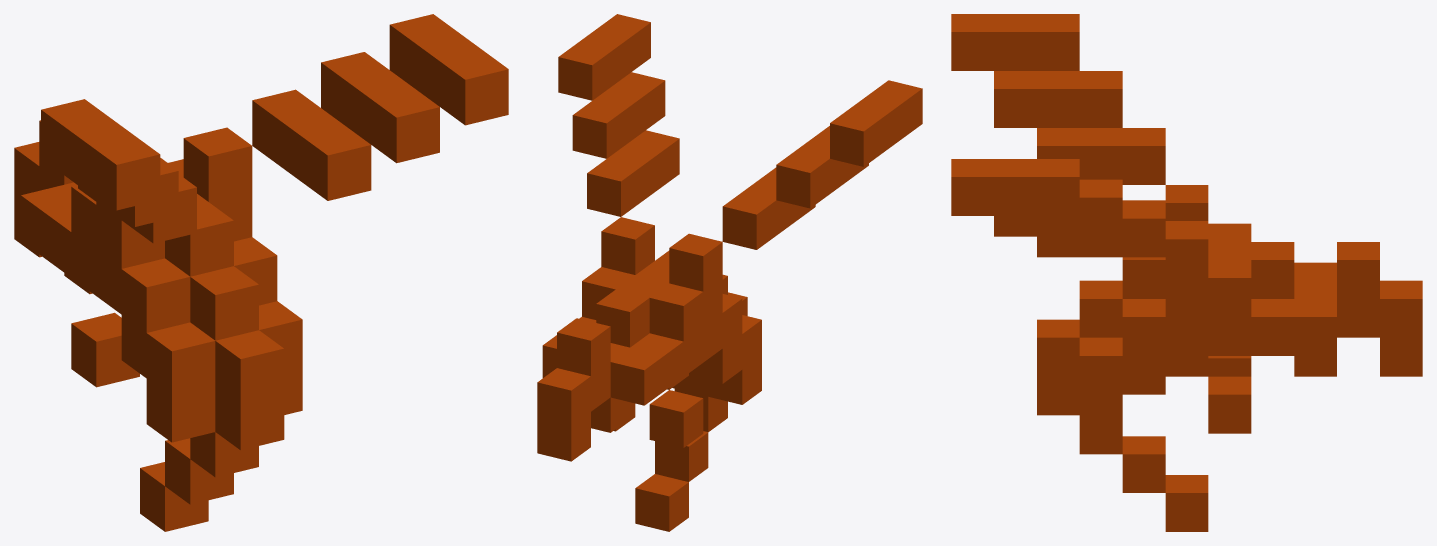
Rendered from Wasp Presi Block.FBX.
The picture shows the model from 3 angles, left to right: view 1: azimuth 30°, elevation 25°; view 2: azimuth 150°, elevation 25°; view 3: azimuth 270°, elevation 25°; orthographic projection. The views are drawn at different scales.
Visible parts, largest first — view 1: PlaneCOL; view 2: PlaneCOL; view 3: PlaneCOL.
Part boxes in pixels (left/top/right/bottom): PlaneCOL: left=14, top=14, right=508, bottom=531; PlaneCOL: left=537, top=14, right=922, bottom=531; PlaneCOL: left=951, top=14, right=1422, bottom=531.
Bounding box in the file's own units: 90 × 110 × 110.
